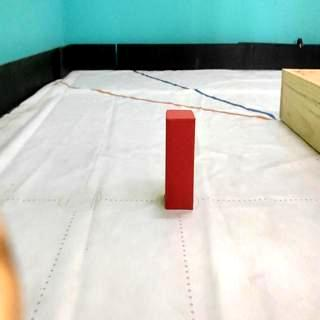redbox: (164, 108, 196, 208)
